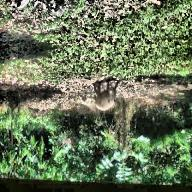boar: (87, 71, 124, 113)
